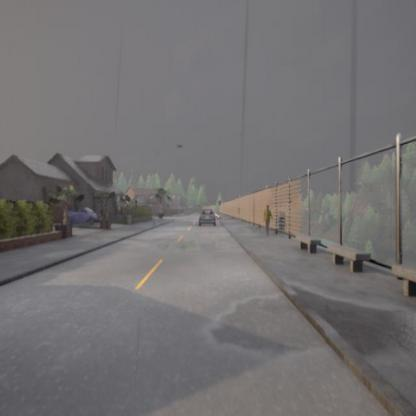person: (262, 204, 272, 235)
vehicle: (199, 209, 218, 225)
